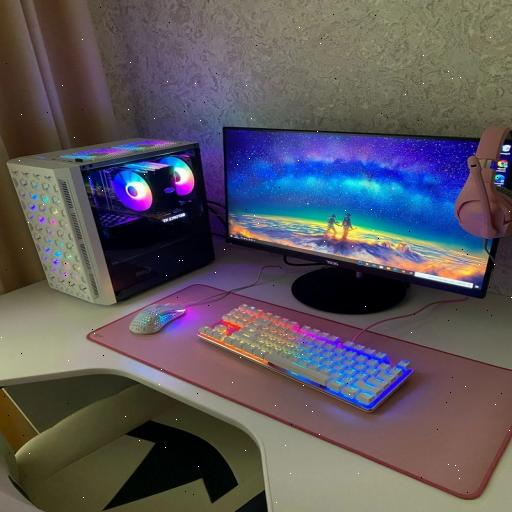computer case: (8, 138, 215, 304)
monitor: (225, 128, 490, 296)
